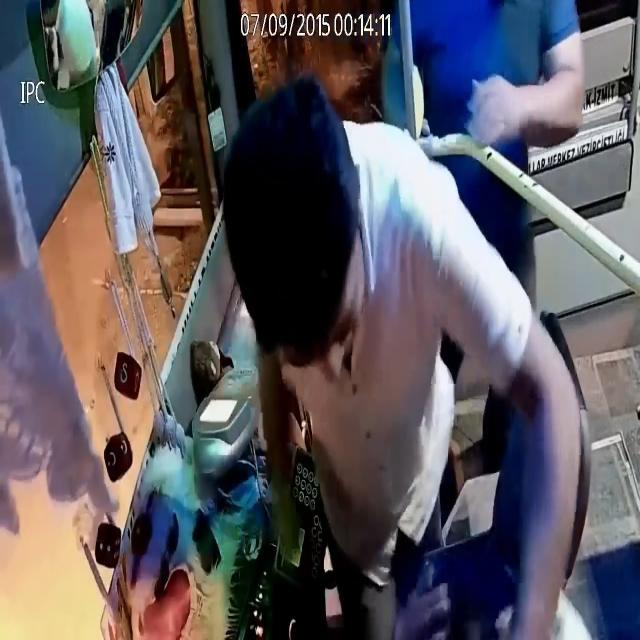fight: (218, 82, 588, 640)
